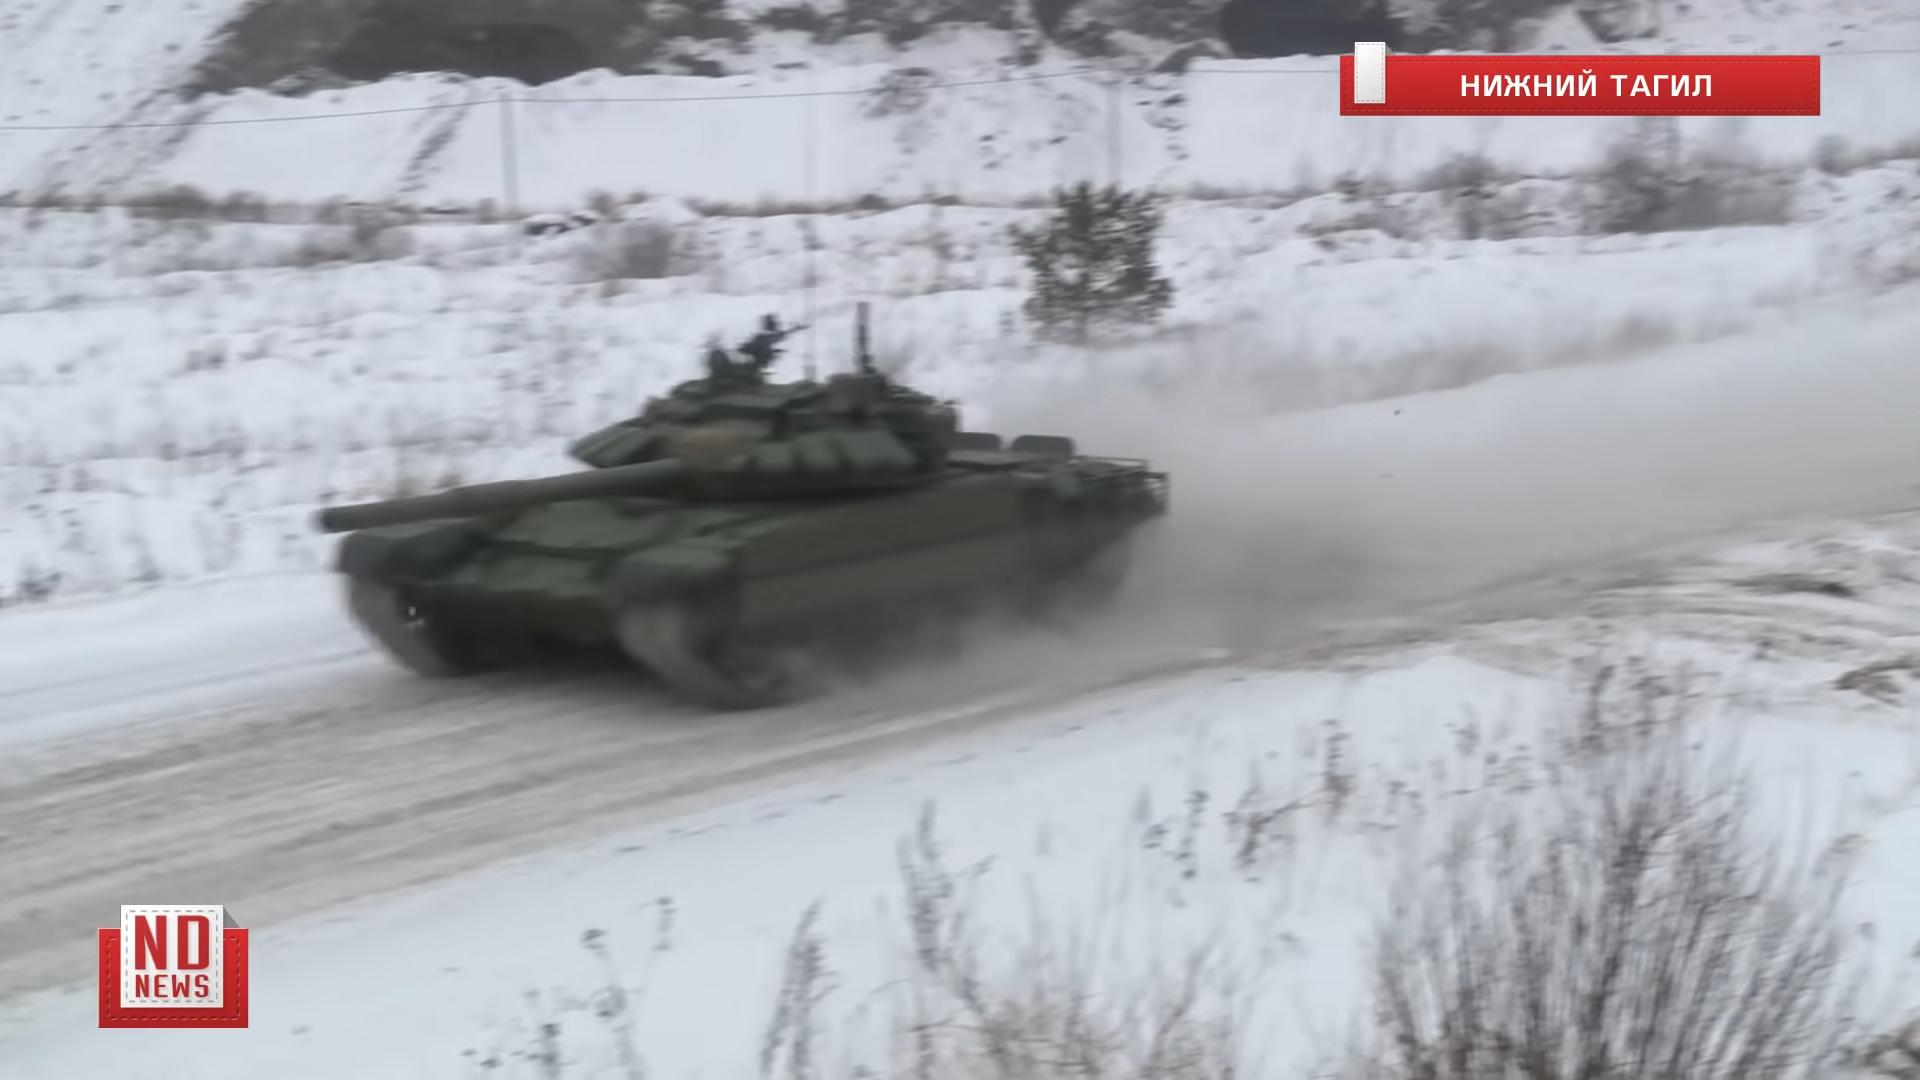tank: (315, 356, 1175, 704)
